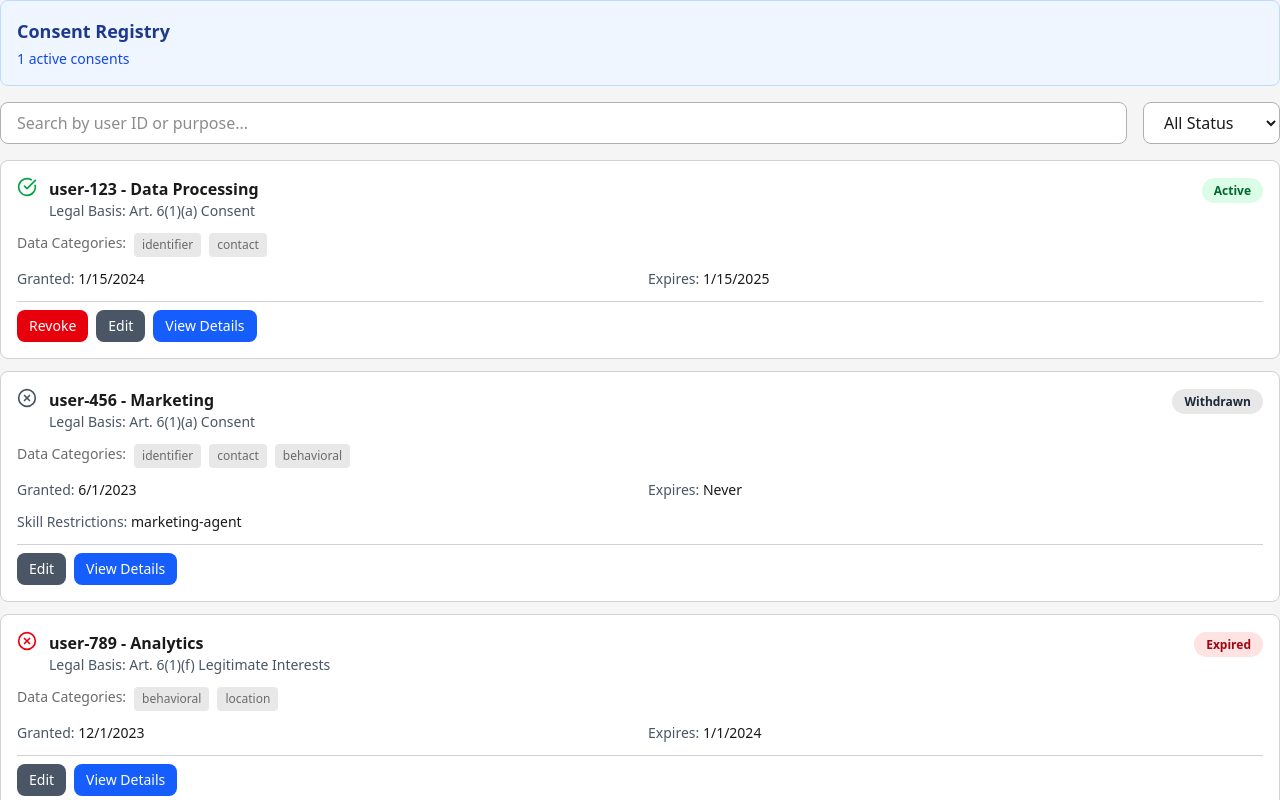
Test: ConsentRegistry › Filtering › filters consents by status
Step 1. Select "Active" in the dropdown named "Filter by status" → x=1212, y=123, box [1143,102,1279,144]
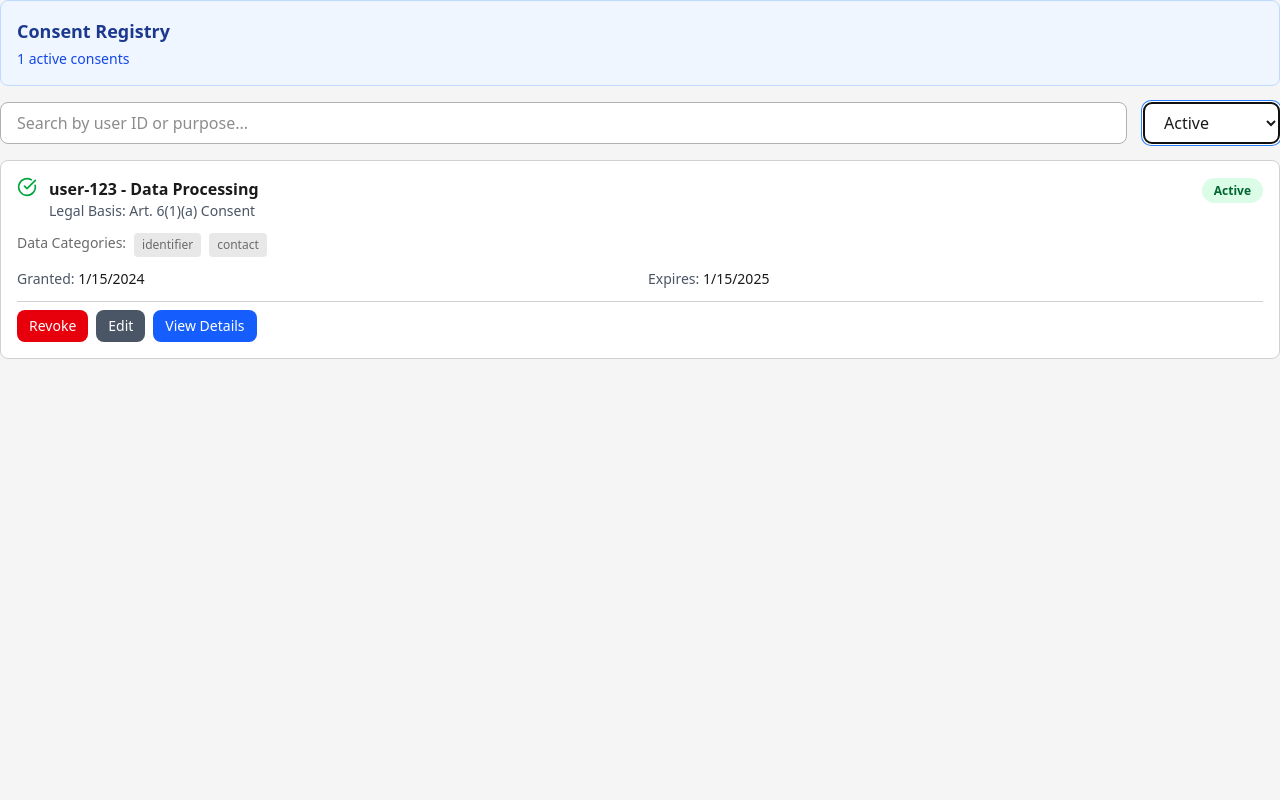
Expected: the element with test id "consent-row-consent-1" is shown, [0,160,1279,359]
Expected: the element with test id "consent-row-consent-2" is gone
